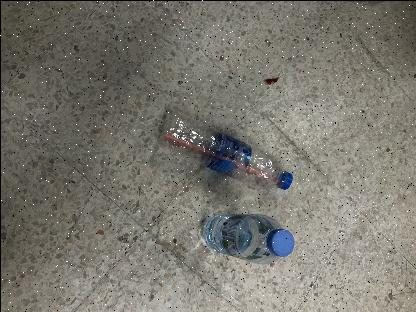Plastic Bottle: (155, 106, 291, 188), (200, 211, 294, 264)
